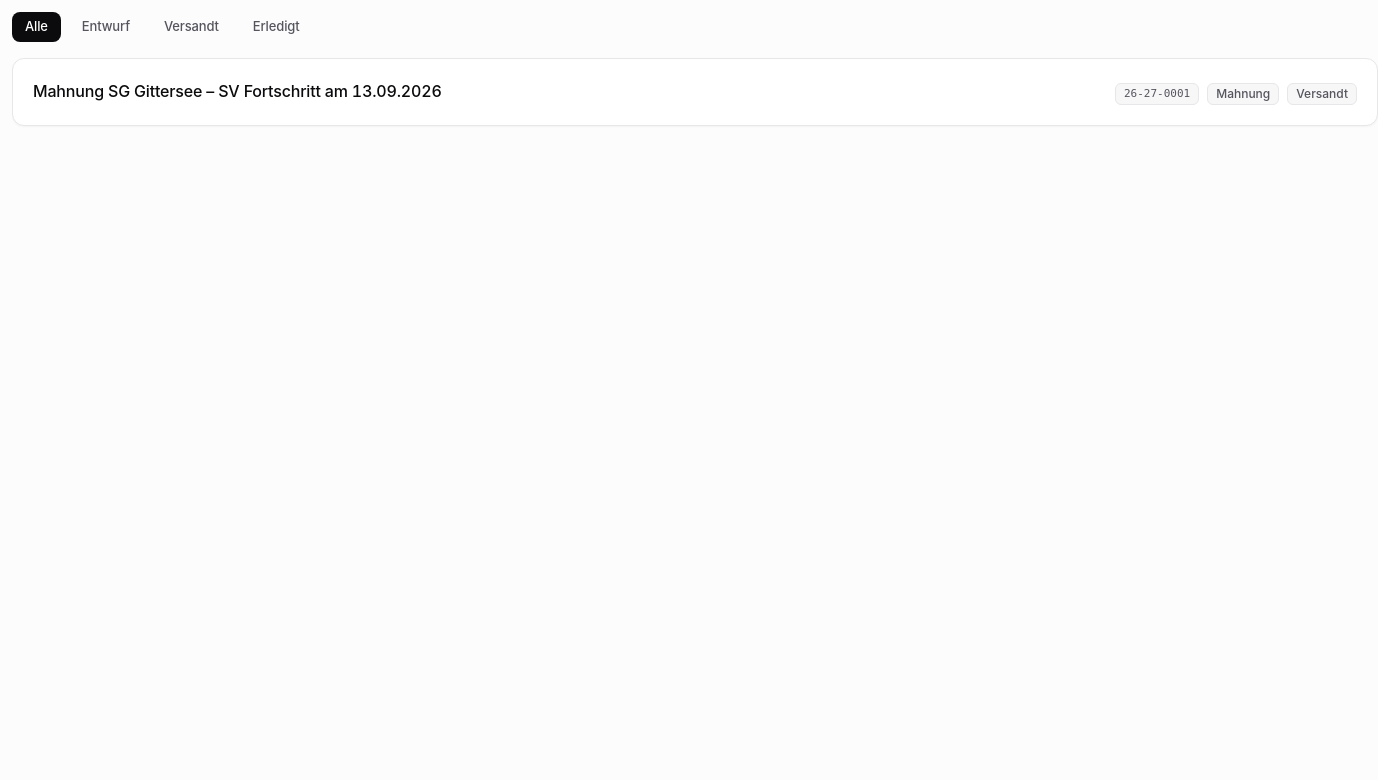
Test: Ein Vorgang › bietet aus dem versandten Zustand beide Richtungen an
This screenshot has width=1378, height=780.
Click the 5th button at (237, 91), box [33,79,1357,105]
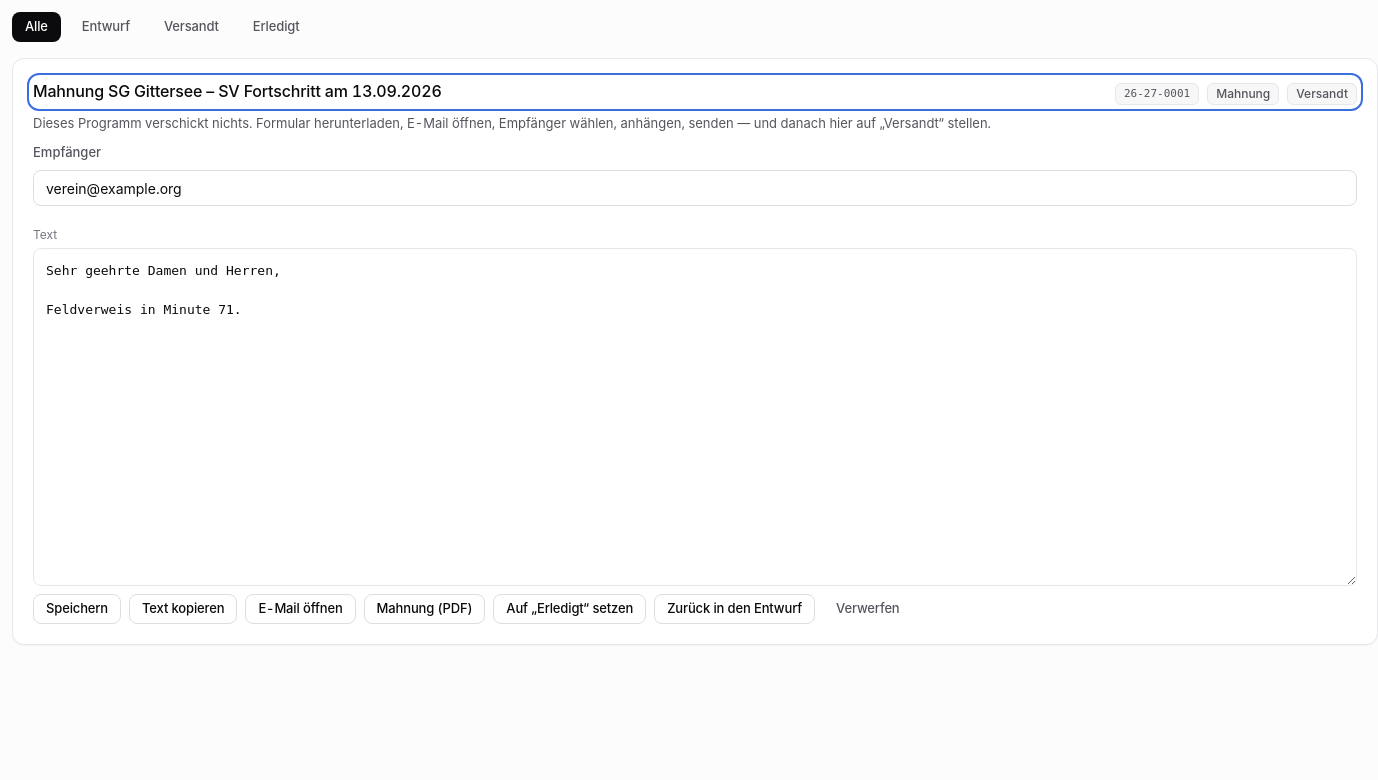
Result: the button "Auf „Erledigt“ setzen" is shown at [493,594,646,624]
Result: the button "Zurück in den Entwurf" is shown at [654,594,815,624]
